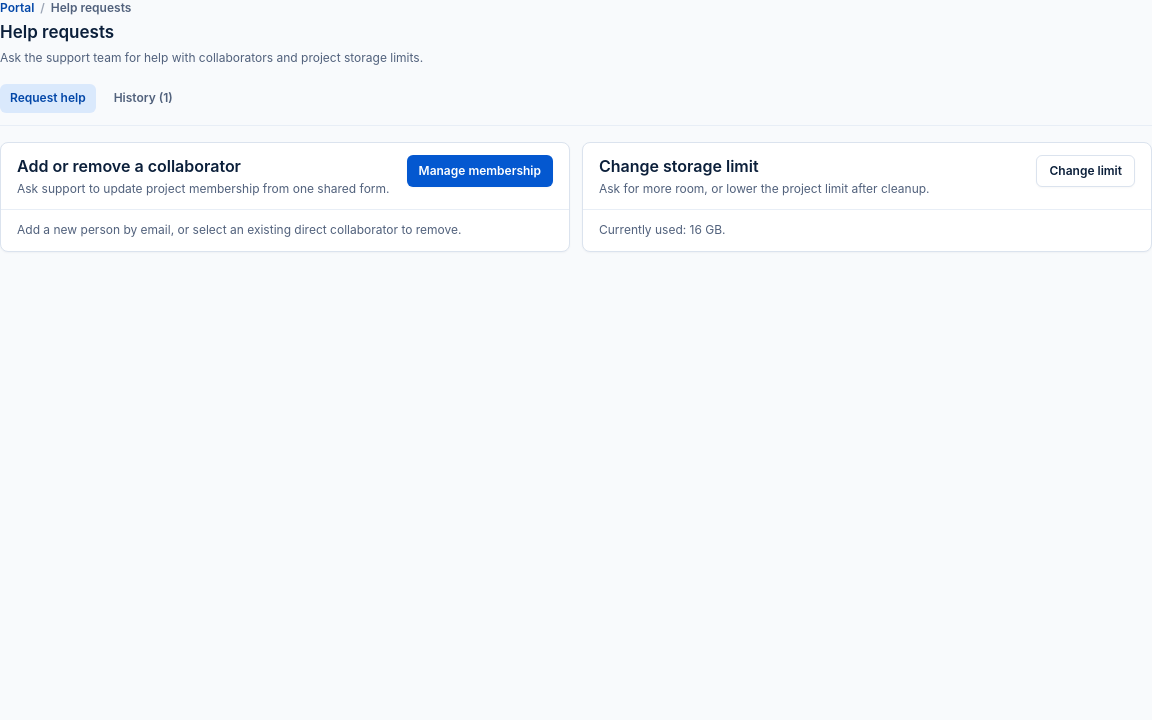
it: PortalRequestsPage › blocks storage-limit requests below current usage
Expected: the heading "Help requests" is shown, [0,20,114,44]
Click the button "Change limit": [1086, 170] box [1036,154,1135,186]
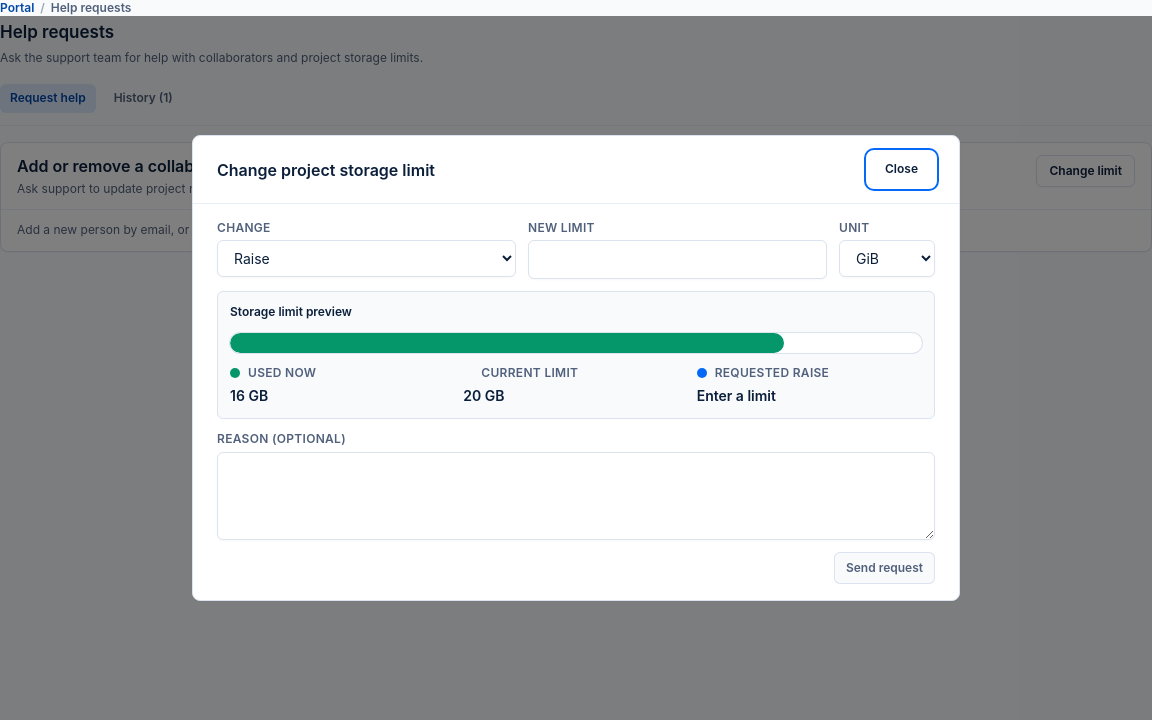
Select "Lower" in the dropdown labelled "Change": [366, 259] box [217,240,516,277]
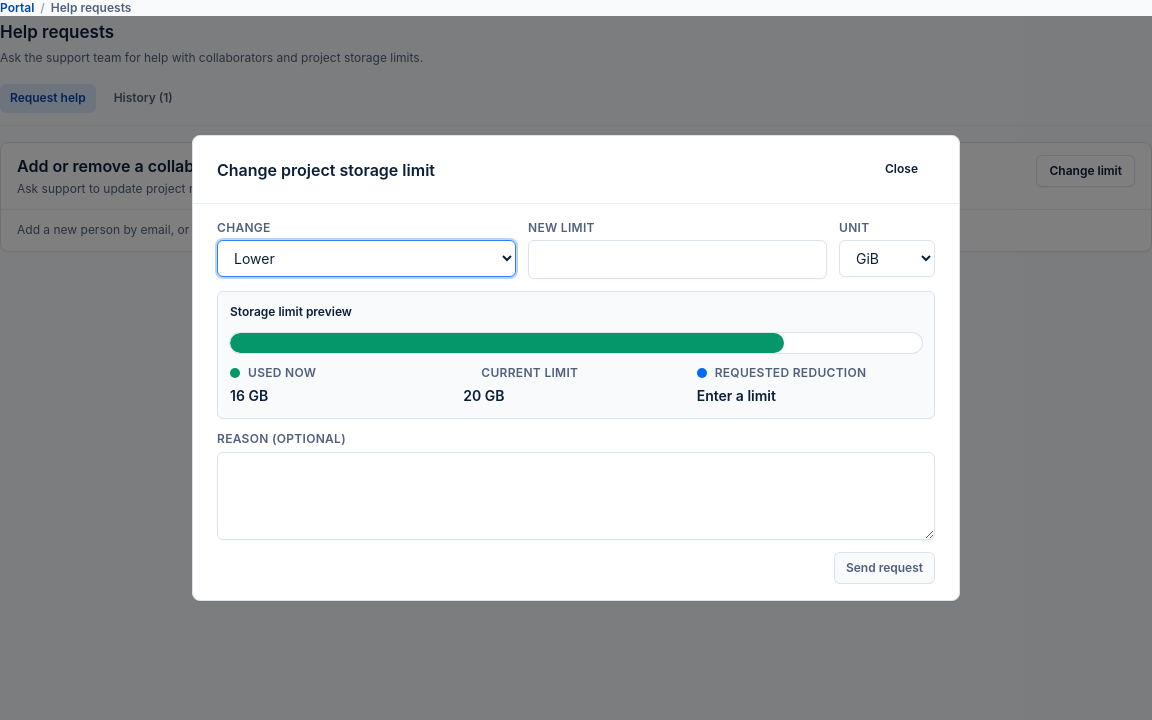
In the number field labelled "New limit": [678, 260] box [528,240,827,279], type "10"
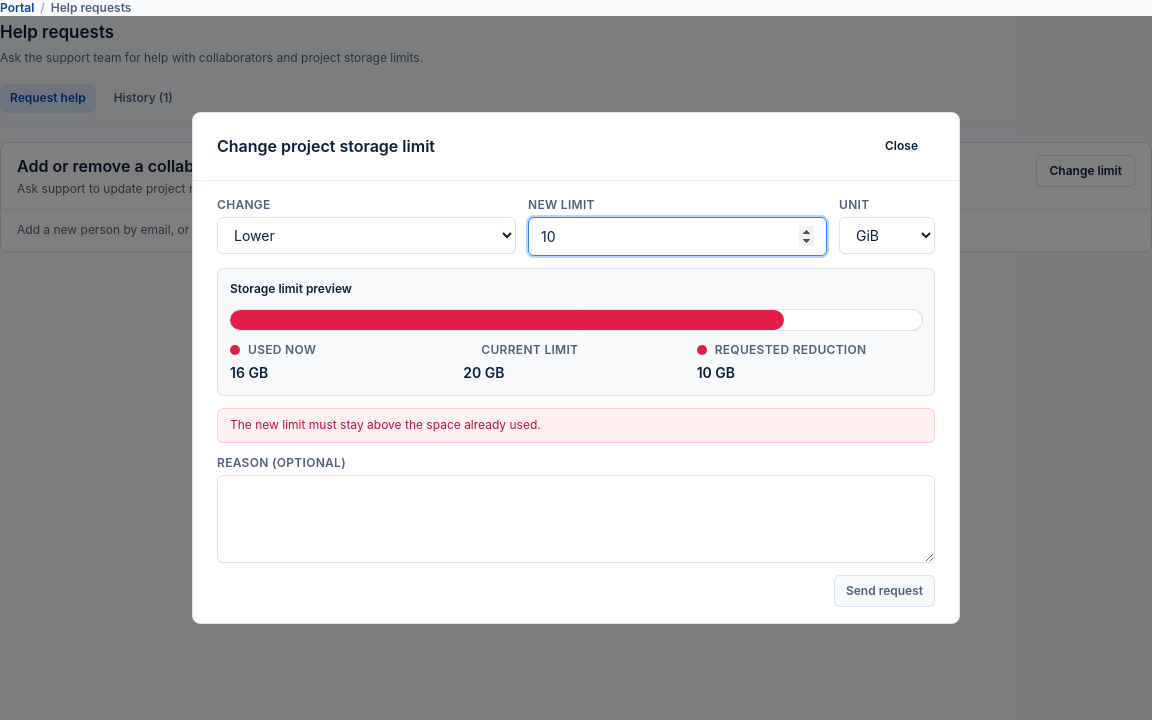
Expected: the button "Send request" is disabled, [834,575,935,607]
Expected: the text "The new limit must stay above the space already used." is shown, [217,408,935,442]
